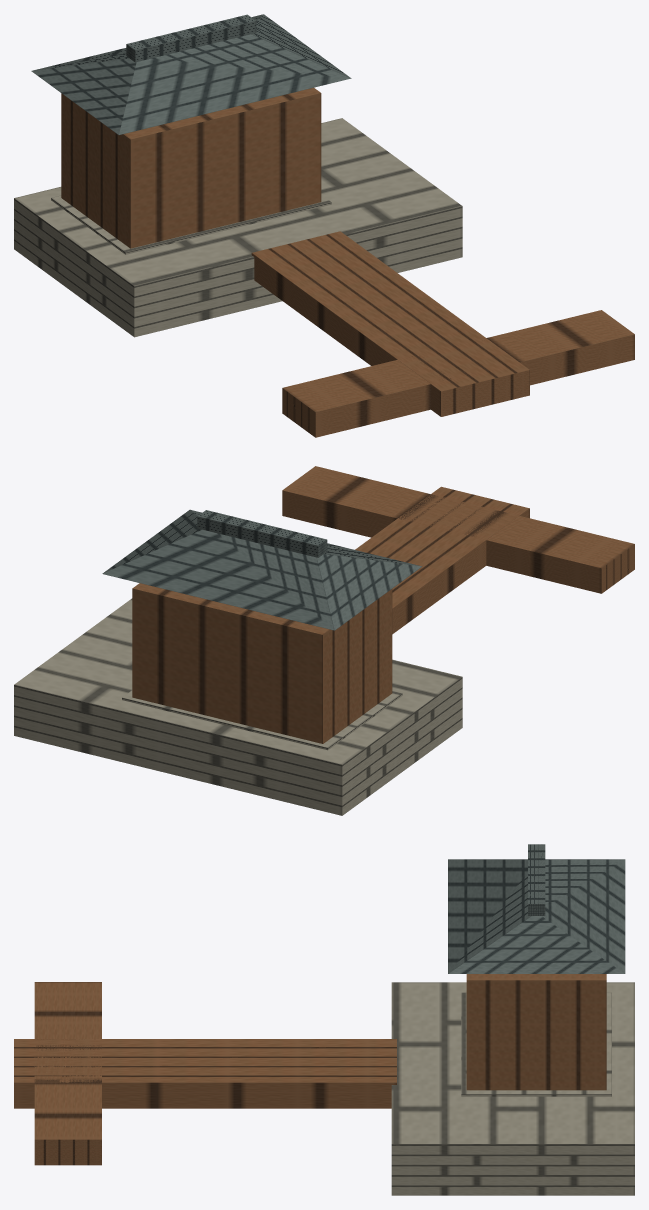
File: port-lod2.glb
3 renders of one model, top to bottom at view 1: azimuth 30°, elevation 25°; view 2: azimuth 150°, elevation 25°; view 3: azimuth 270°, elevation 25°, orthographic.
Bounding box in the file's own units: 0.74 × 0.476 × 1.2.
Materials: 1 (1 with a texture image).
